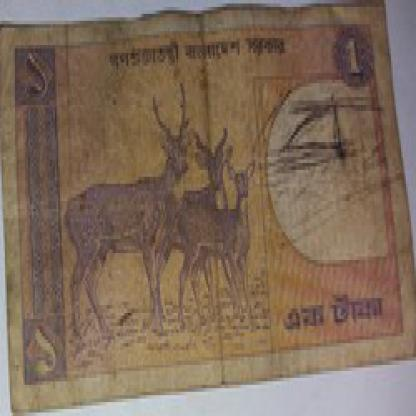One Taka: (284, 292, 390, 329), (25, 319, 67, 381), (15, 49, 57, 104), (341, 35, 368, 83)
